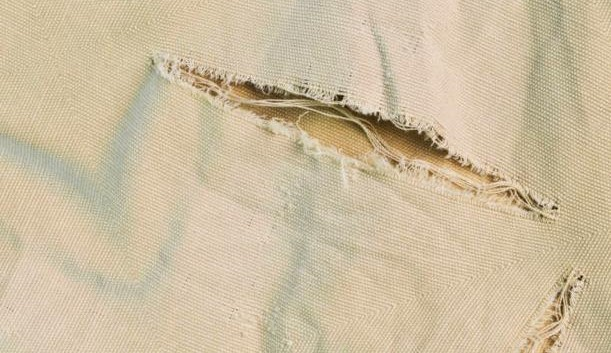hole: (141, 47, 569, 231), (510, 263, 588, 350)
